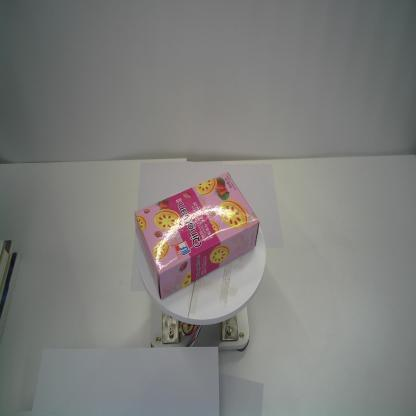Dessert: (132, 171, 261, 302)
